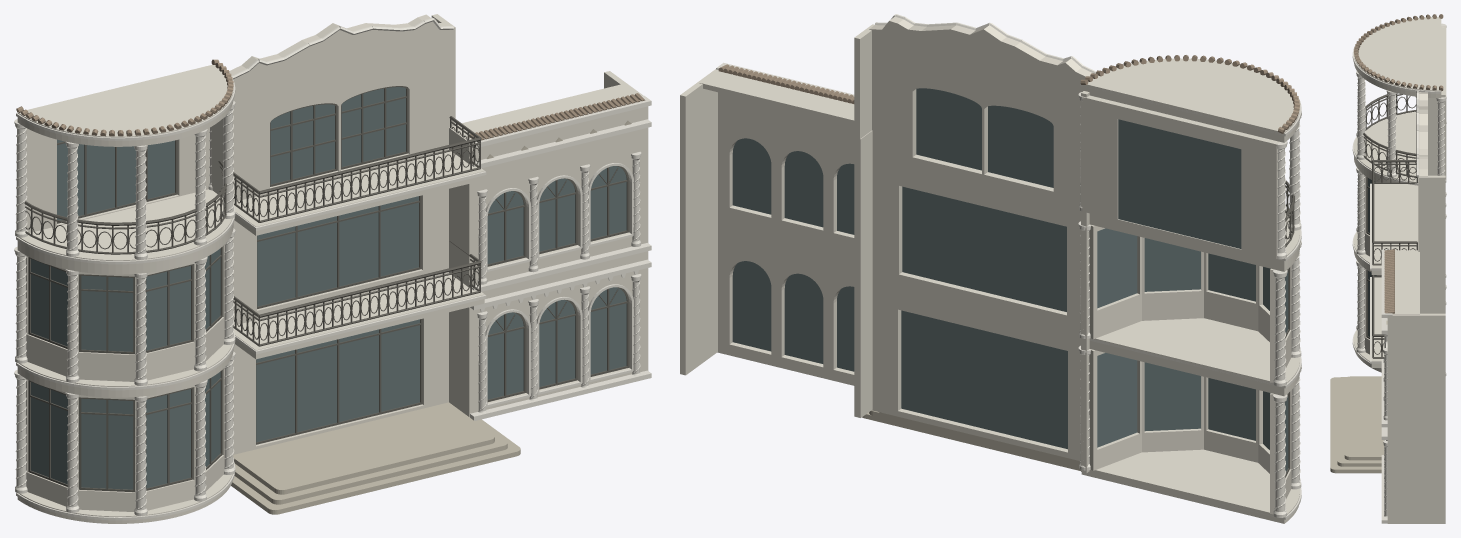
File: xuhui-yongfu-road-151-south-front-web.glb
3 renders of one model, left to right at view 1: azimuth 30°, elevation 25°; view 2: azimuth 150°, elevation 25°; view 3: azimuth 270°, elevation 25°, orthographic. The views are drawn at different scales.
Parts seen in each view (by area): view 1: 永福路151号花园住宅南立面; view 2: 永福路151号花园住宅南立面; view 3: 永福路151号花园住宅南立面.
Boxes of the visible parts, x1,y1,x2,y2 form: 永福路151号花园住宅南立面: [14, 14, 651, 523]; 永福路151号花园住宅南立面: [680, 14, 1301, 523]; 永福路151号花园住宅南立面: [1330, 14, 1446, 523].
Bounding box in the file's own units: 17.87 × 11.91 × 4.
